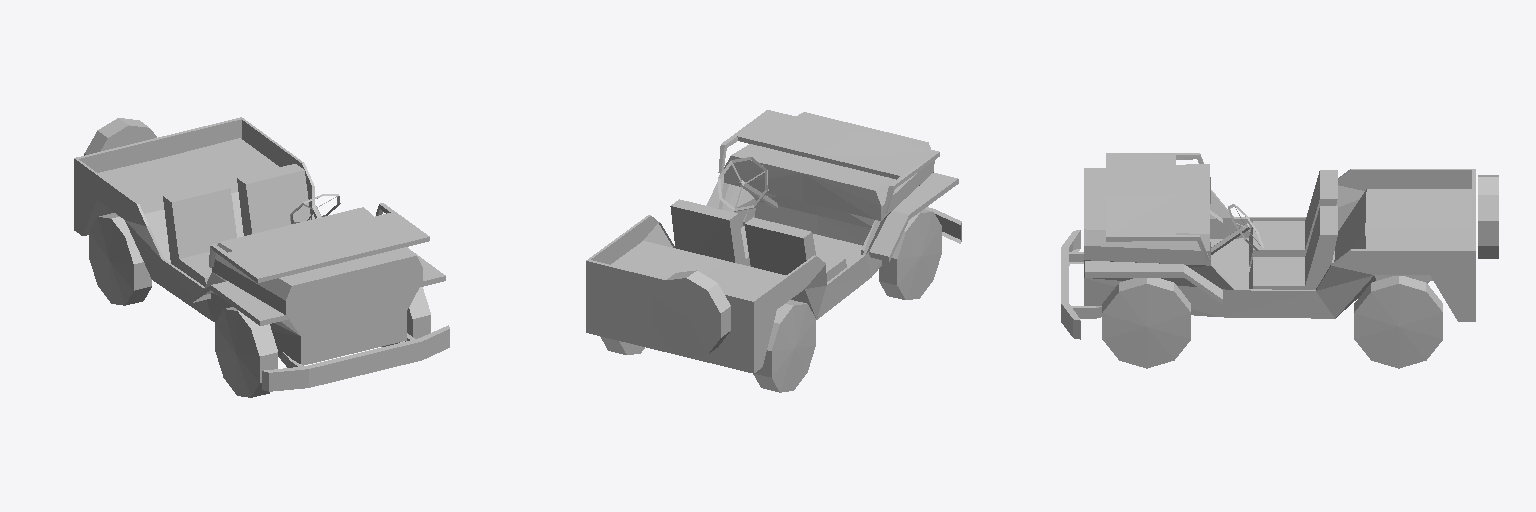
File: Jeep_Willys.obj
The picture shows the model from 3 angles: view 1: azimuth 30°, elevation 25°; view 2: azimuth 150°, elevation 25°; view 3: azimuth 270°, elevation 25°; orthographic projection.
Visible parts, largest first — view 1: polySurface157; view 2: polySurface157; view 3: polySurface157.
Boxes of the visible parts, x1=… form: polySurface157: x1=74, y1=117, x2=449, y2=397; polySurface157: x1=586, y1=110, x2=961, y2=392; polySurface157: x1=1061, y1=153, x2=1498, y2=368.
Bounding box in the file's own units: 1 × 0.7213 × 2.03.